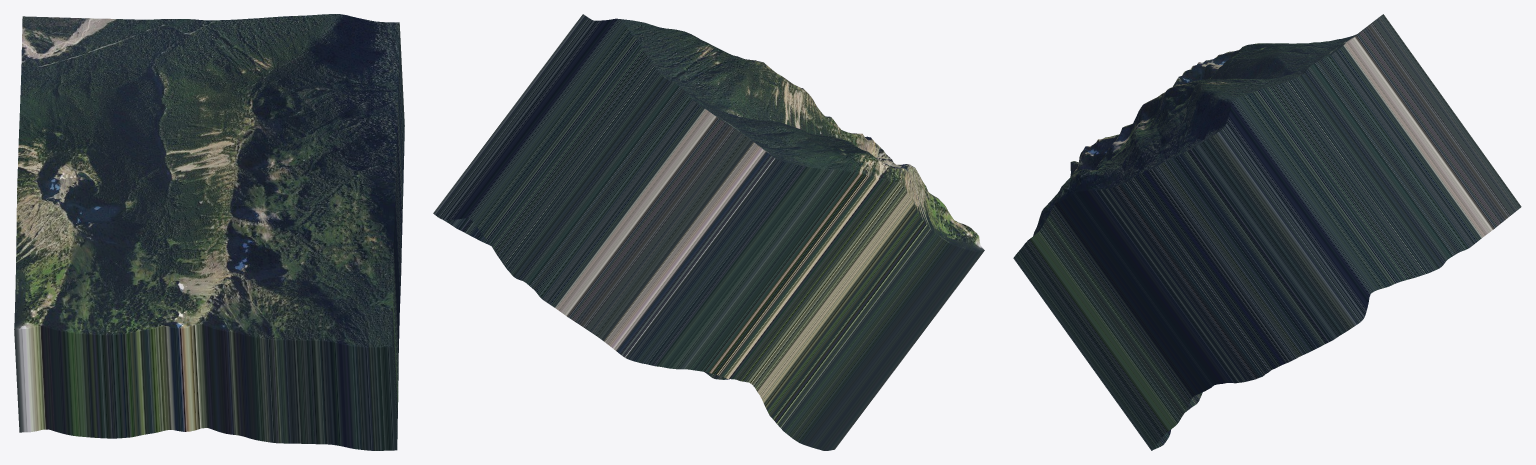
3 views of the same model, side by side, from view 1: azimuth 30°, elevation 25°; view 2: azimuth 150°, elevation 25°; view 3: azimuth 270°, elevation 25° (orthographic). The views are drawn at different scales.
Size of the model in its own units: 6273 by 4845 by 6426.
1 material, 1 textured.
